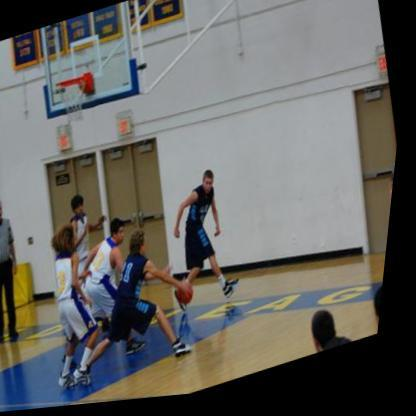basketball: (179, 286, 203, 314)
